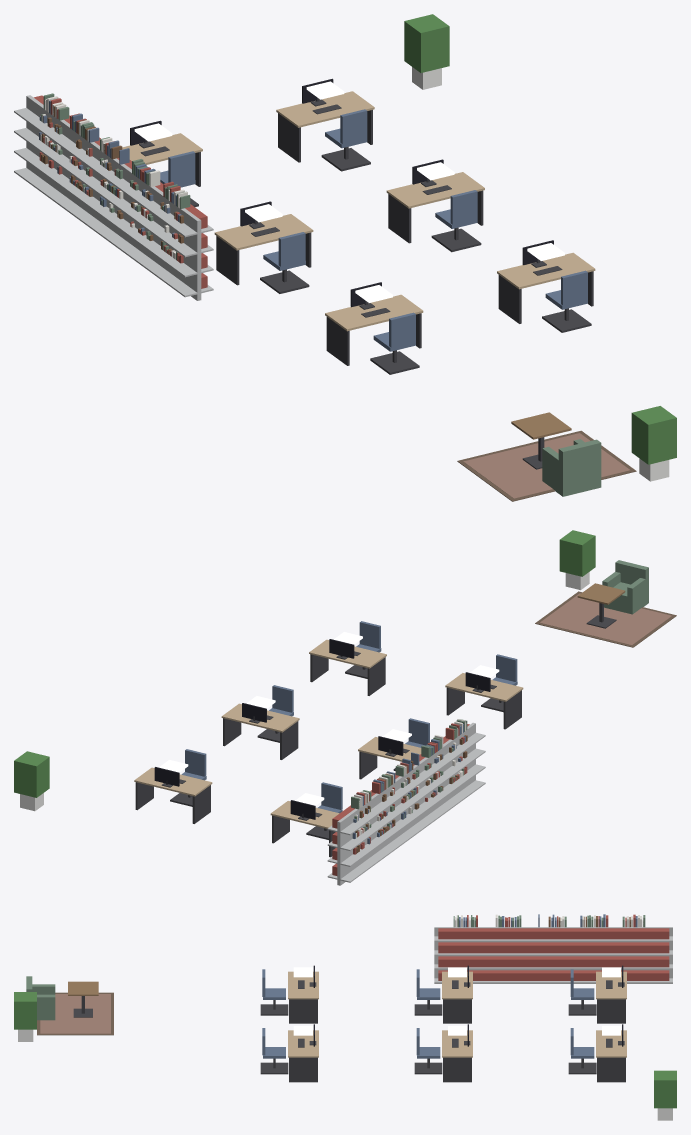
File: fine-s1.glb
The picture shows the model from 3 angles, top to bottom: view 1: azimuth 30°, elevation 25°; view 2: azimuth 150°, elevation 25°; view 3: azimuth 270°, elevation 25°; orthographic projection. The views are drawn at different scales.
Parts seen in each view (by area): view 1: soft-s1, shelving.004, shelving.000, office-desk-real.003, office-desk-real.002, office-desk-real.005, office-desk-real.004, shelving.001, office-desk-real.001, shelving.002, plant-medium.000, plant-medium.001 (+10 smaller); view 2: soft-s1, shelving.000, office-desk-real.004, office-desk-real.001, office-desk-real.005, office-desk-real.003, shelving.004, shelving.001, shelving.003, plant-medium.000, shelving.002, plant-medium.001 (+10 smaller); view 3: soft-s1, shelving.000, shelving.003, shelving.002, shelving.004, shelving.001, office-desk-real.001, office-desk-real.003, office-desk-real.005, office-desk-real.000, office-desk-real.002, office-desk-real.004 (+10 smaller).
Boxes of the visible parts, x1,y1,x2,y2 form: soft-s1: (39, 93, 636, 501); shelving.004: (135, 185, 213, 300); shelving.000: (14, 95, 75, 208); office-desk-real.003: (386, 159, 484, 243); office-desk-real.002: (214, 201, 313, 285); office-desk-real.005: (497, 240, 595, 323); office-desk-real.004: (325, 282, 423, 365); shelving.001: (44, 118, 106, 230); office-desk-real.001: (276, 78, 374, 162); shelving.002: (74, 140, 136, 252); plant-medium.000: (631, 406, 676, 481); plant-medium.001: (404, 14, 449, 89); soft-s1: (351, 591, 676, 854); shelving.000: (327, 793, 389, 885); office-desk-real.004: (445, 672, 523, 729); office-desk-real.001: (134, 767, 212, 823); office-desk-real.005: (309, 639, 386, 695); office-desk-real.003: (221, 703, 299, 759); shelving.004: (436, 722, 485, 811); shelving.001: (364, 776, 413, 864); shelving.003: (412, 740, 461, 829); plant-medium.000: (559, 530, 595, 590); shelving.002: (388, 758, 437, 846); plant-medium.001: (14, 751, 49, 811); soft-s1: (37, 914, 645, 1035); shelving.000: (603, 927, 672, 983); shelving.003: (476, 927, 545, 983); shelving.002: (519, 927, 588, 983); shelving.004: (434, 927, 503, 983); shelving.001: (561, 927, 629, 983); office-desk-real.001: (596, 1024, 626, 1082); office-desk-real.003: (442, 1024, 472, 1082); office-desk-real.005: (288, 1024, 318, 1082); office-desk-real.000: (596, 965, 626, 1023); office-desk-real.002: (442, 965, 472, 1023); office-desk-real.004: (288, 965, 318, 1023).
Bounding box in the file's own units: 8.83 × 1.93 × 17.22.
